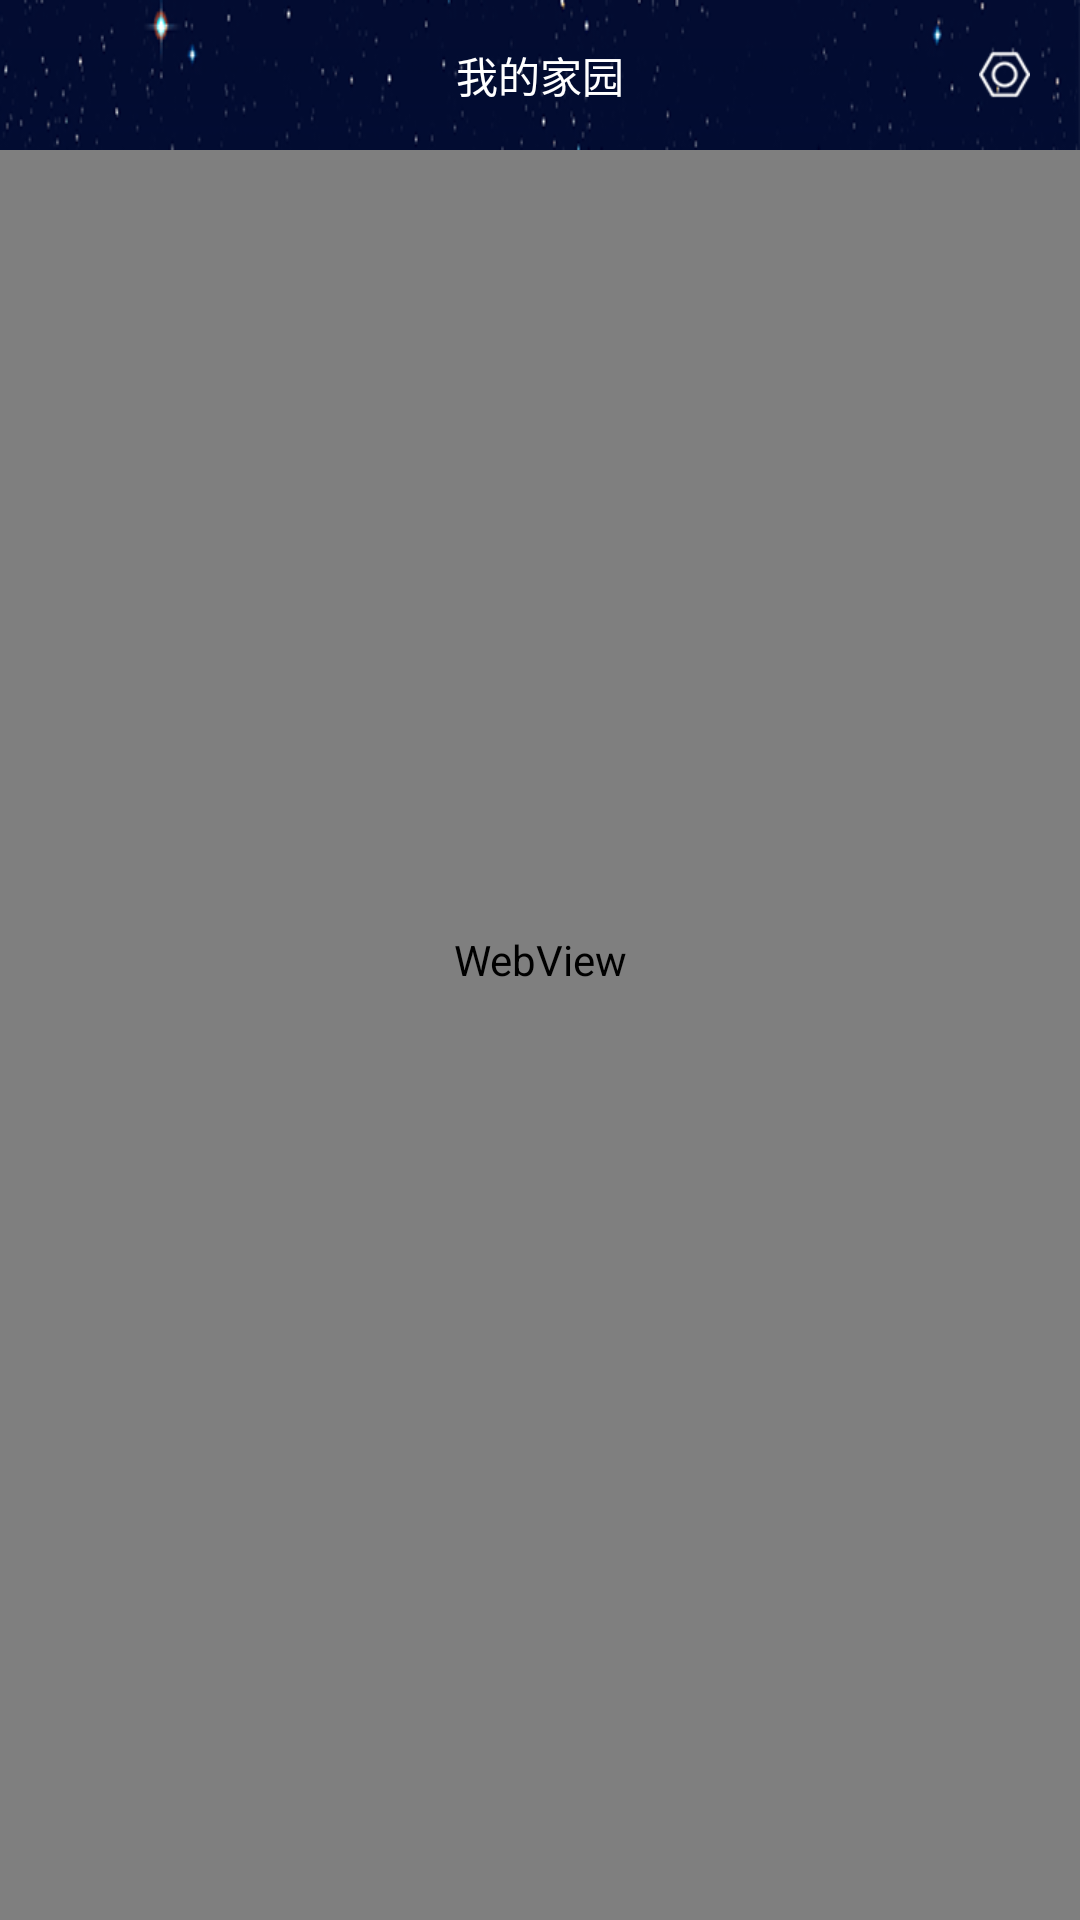

Screen size 1080px×1920px. Icon name, then its box in pixels as (x1, y1, x2, y2):
settings: (979, 49, 1030, 98)
